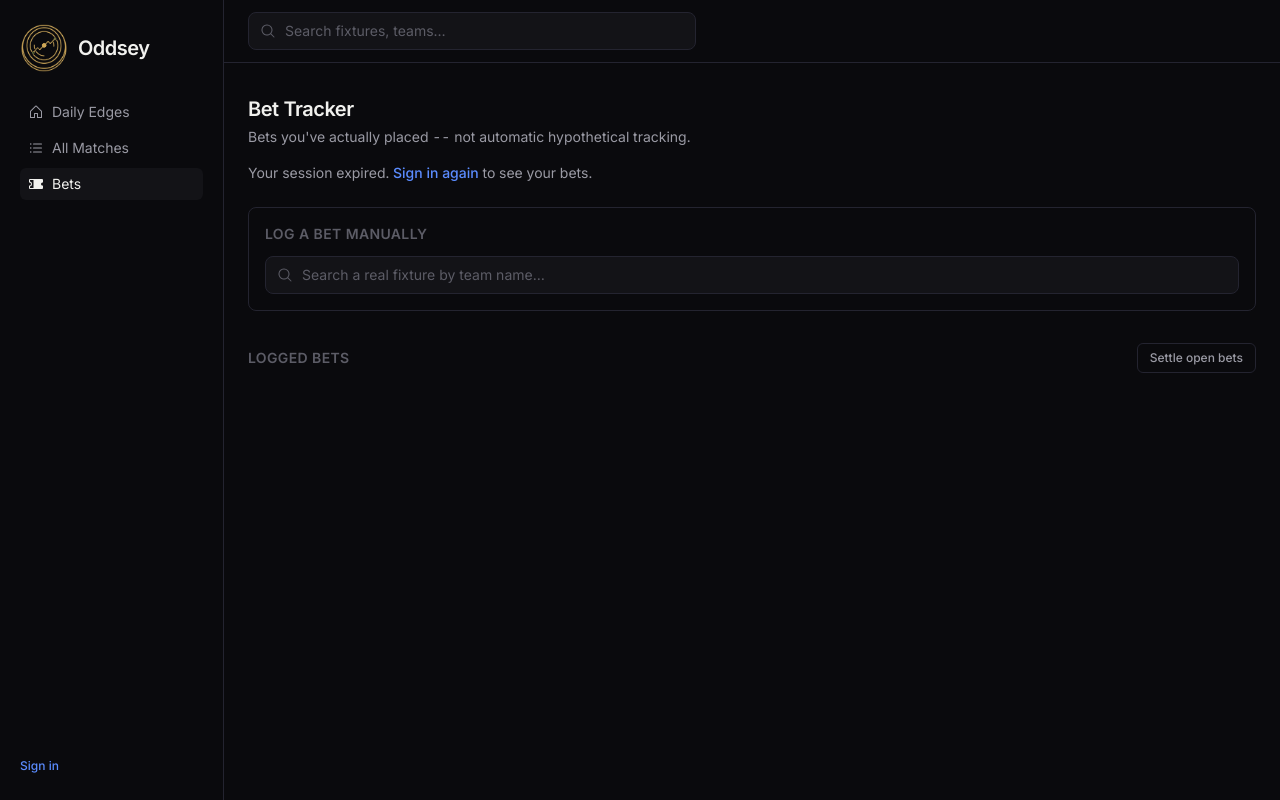
BetTrackerPage decouples stats/bets loading and prompts re-auth on 401 (W210 follow-up) › recovers after re-login: a later successful load clears needsAuth and shows the real bets list
Expected: the text "Your session expired. Sign in again to see your bets." is shown, left=248, top=164, right=592, bottom=181
Expected: the link "Sign in again" is shown, left=393, top=164, right=479, bottom=181
Click the button "Settle open bets" at (1196, 358), box left=1137, top=343, right=1256, bottom=373
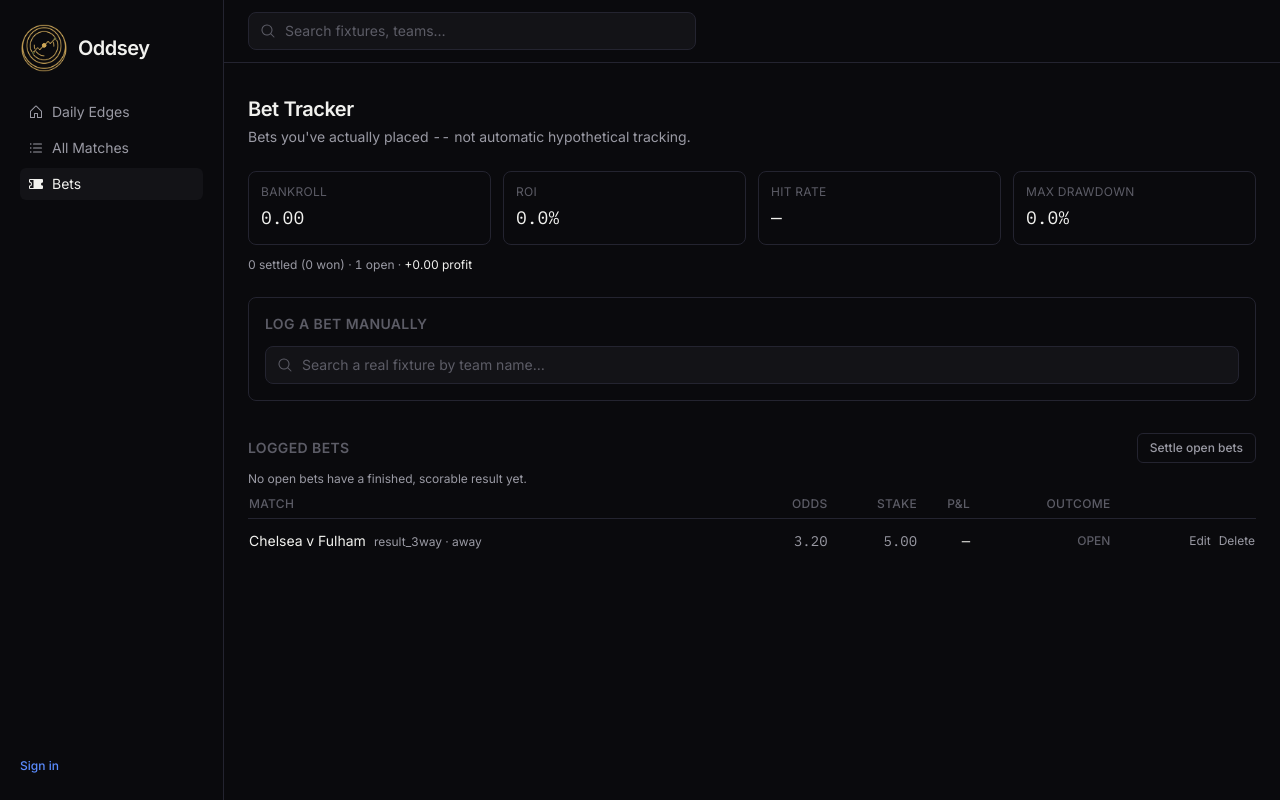
Now the text "Your session expired" is gone
Now the link "Sign in again" is gone
Now the text "Chelsea v Fulham" is shown, box left=249, top=532, right=482, bottom=549
